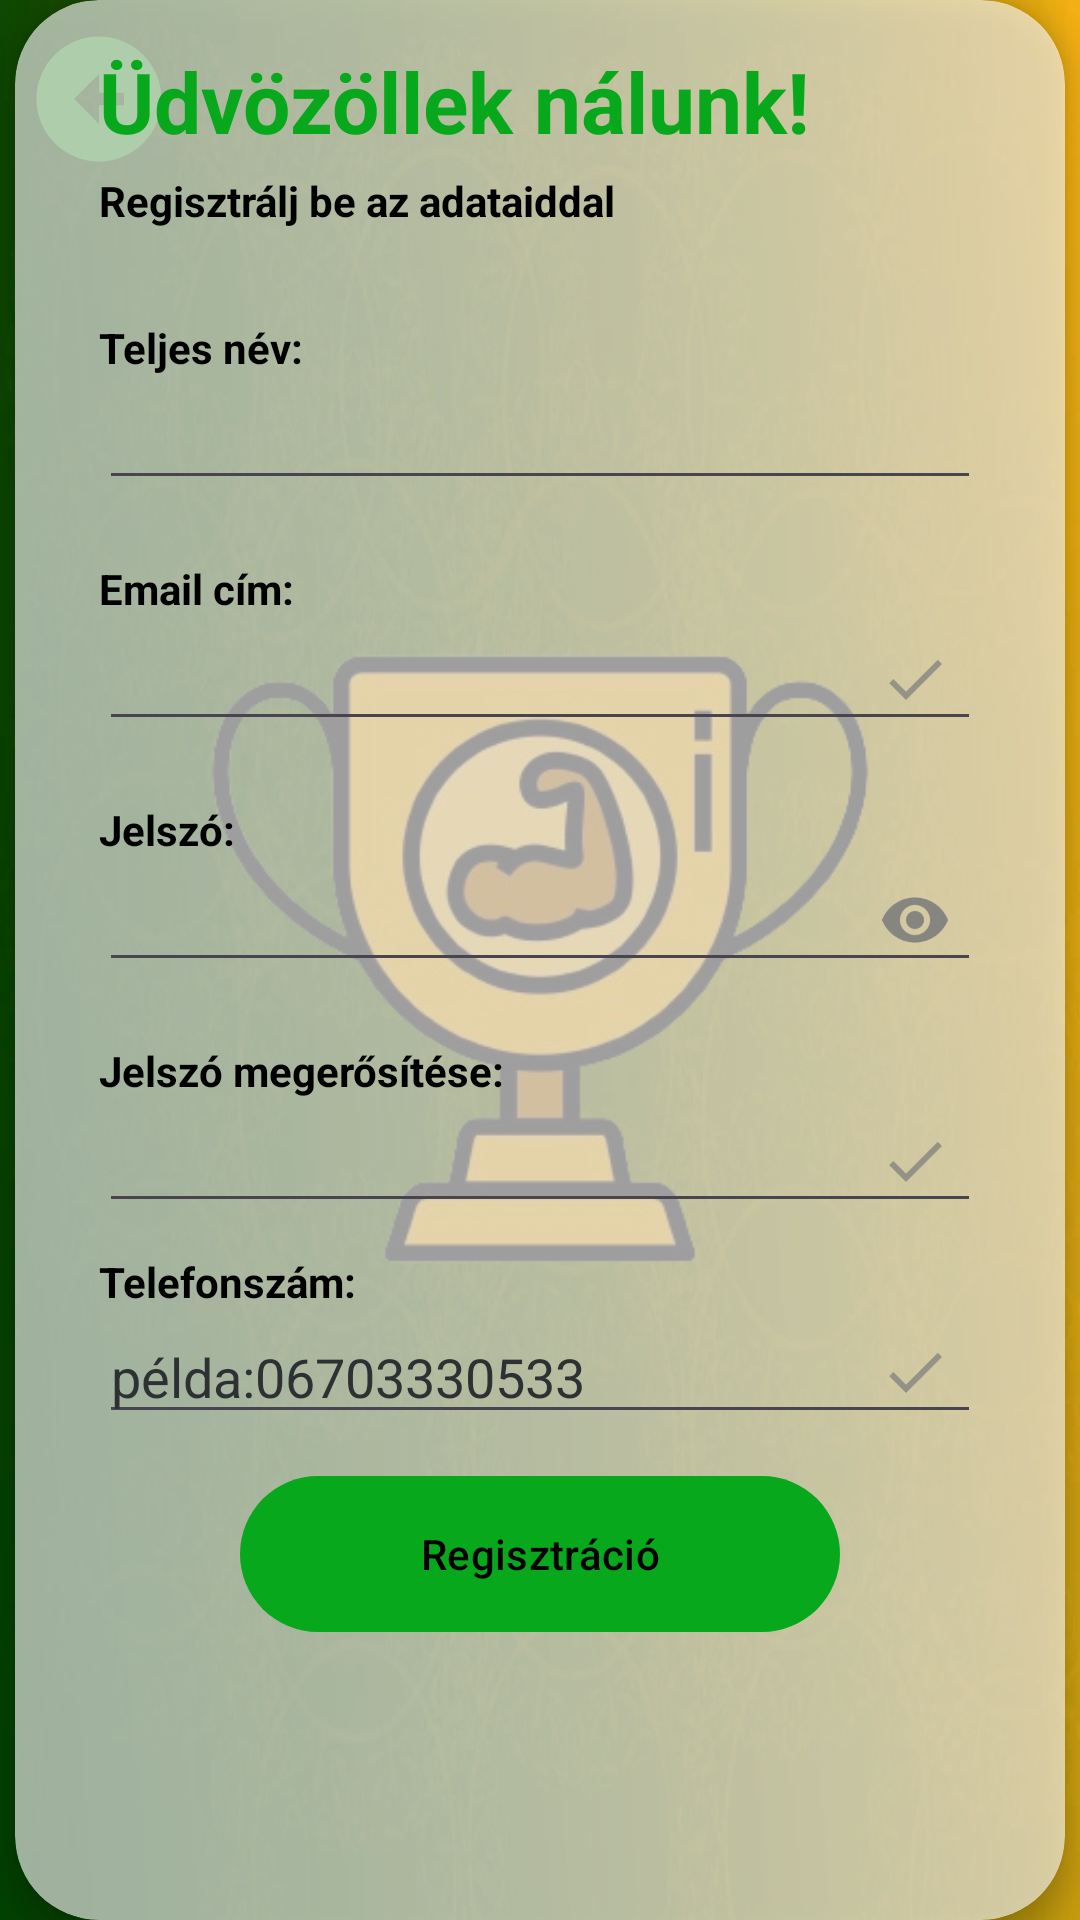

Point at icon controls on the screen. Image size 1080 × 1920, points as (x=x, y=y).
back arrow: (x=99, y=92)
done: (x=915, y=680), (x=915, y=1162), (x=915, y=1373)
Jelszó láthatóság váltó ikon: (x=915, y=920)
